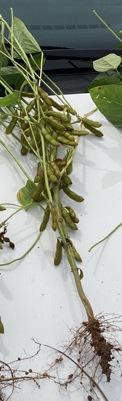soja: (67, 238, 86, 267), (63, 188, 89, 206), (40, 128, 62, 148), (61, 213, 80, 232), (53, 239, 65, 268), (4, 114, 21, 134), (87, 126, 105, 142), (67, 127, 89, 140), (36, 88, 52, 105), (49, 98, 67, 113), (23, 100, 37, 119), (57, 138, 79, 150), (20, 134, 30, 160), (67, 205, 83, 221), (47, 111, 70, 122), (45, 166, 59, 184), (40, 208, 50, 233), (84, 116, 101, 130), (60, 173, 77, 185), (33, 183, 44, 200), (65, 158, 76, 175), (62, 107, 80, 117), (51, 164, 63, 178), (32, 169, 43, 184), (53, 208, 59, 231), (62, 132, 75, 142)
